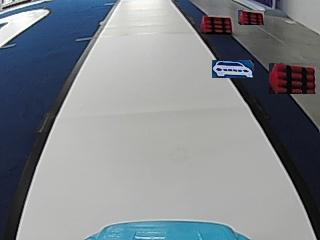bomb: (199, 15, 233, 32)
